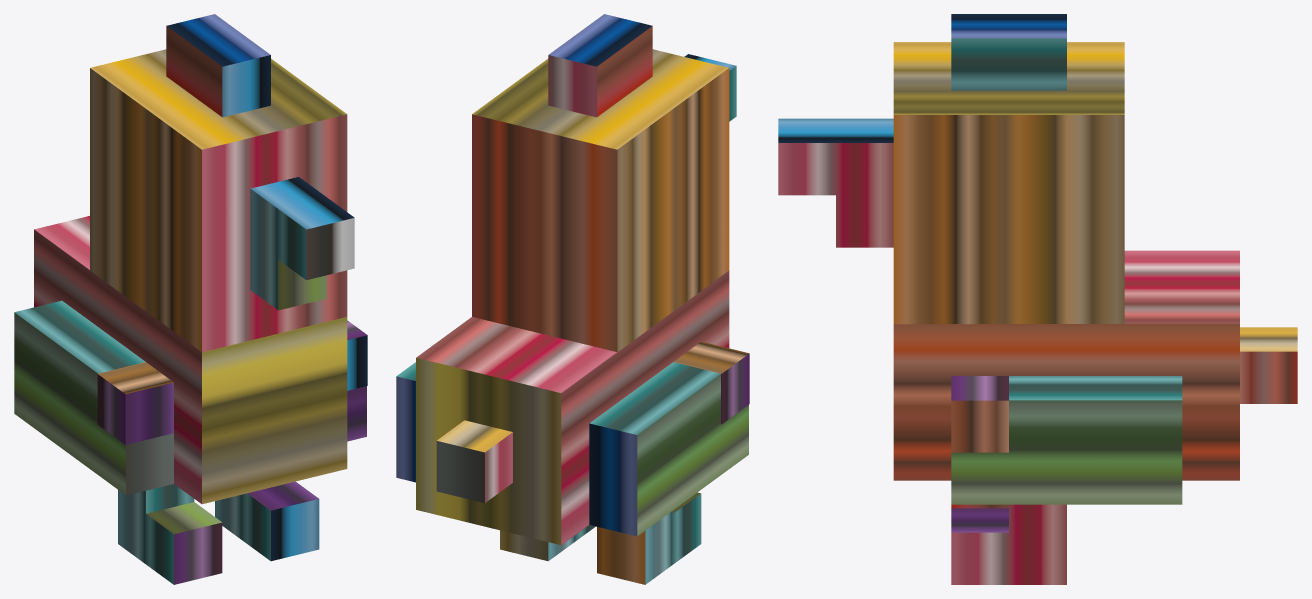
Rendered from chicken_baby.fbx.
The picture shows the model from 3 angles, left to right: view 1: azimuth 30°, elevation 25°; view 2: azimuth 150°, elevation 25°; view 3: azimuth 270°, elevation 25°; orthographic projection. The views are drawn at different scales.
Parts seen in each view (by area): view 1: chicken_head, chicken_body, chicken_wingR, chicken_legR, chicken_legL, chicken_wingL; view 2: chicken_head, chicken_body, chicken_wingR, chicken_legR, chicken_wingL, chicken_legL; view 3: chicken_head, chicken_body, chicken_wingL, chicken_legL.
Boxes of the visible parts, x1,y1,x2,y2 form: chicken_head: (90,14,354,352); chicken_body: (34,216,367,504); chicken_wingR: (14,300,173,495); chicken_legR: (118,484,222,584); chicken_legL: (215,481,319,561); chicken_wingL: (347,386,366,441); chicken_head: (472,14,736,352); chicken_body: (416,270,749,545); chicken_wingR: (589,362,748,536); chicken_legR: (597,492,701,584); chicken_wingL: (396,362,415,482); chicken_legL: (500,525,595,561); chicken_head: (778,14,1124,324); chicken_body: (893,250,1297,480); chicken_wingL: (951,376,1182,504); chicken_legL: (951,504,1066,584).
Size of the model in its own units: 50 by 99.88 by 90.
Materials: 1 (1 with a texture image).
